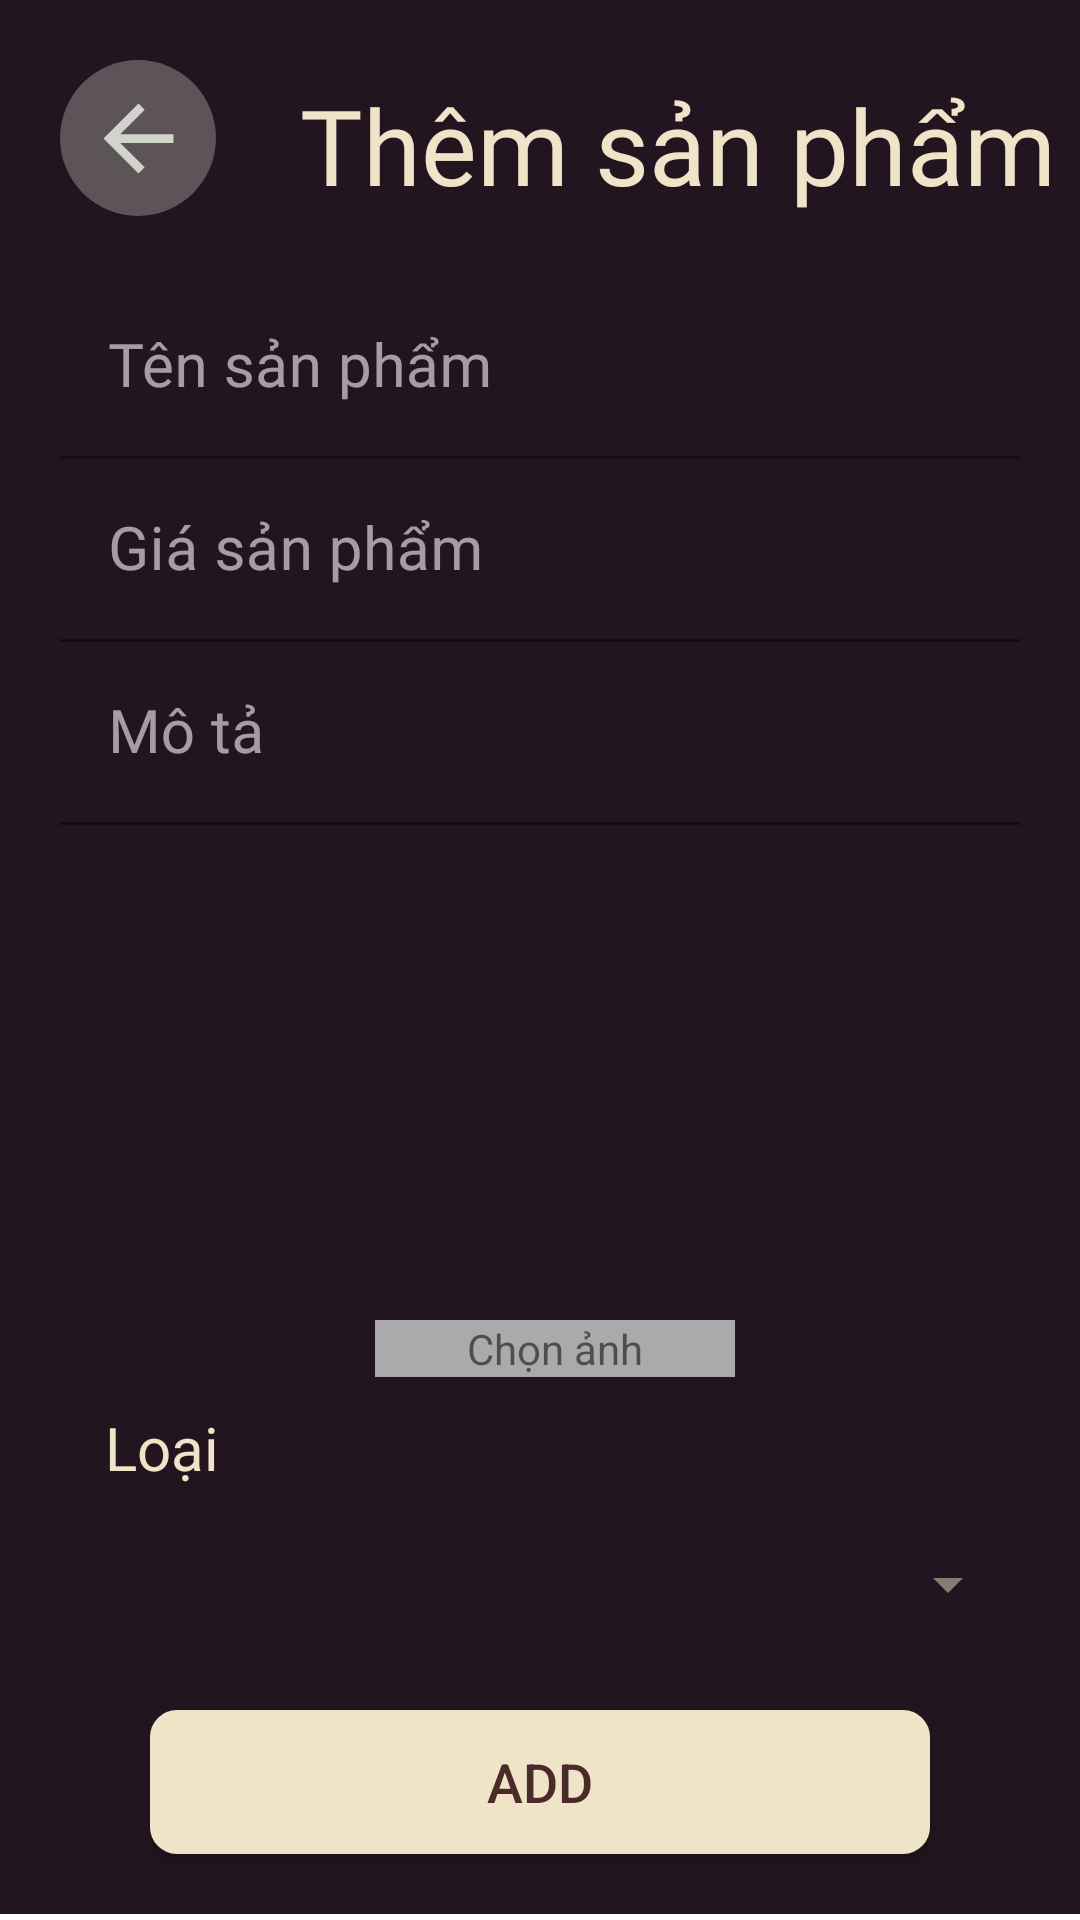

Where to tap for icons on this 1080px×1920px app screen, as point (x, y):
back: point (138, 138)
